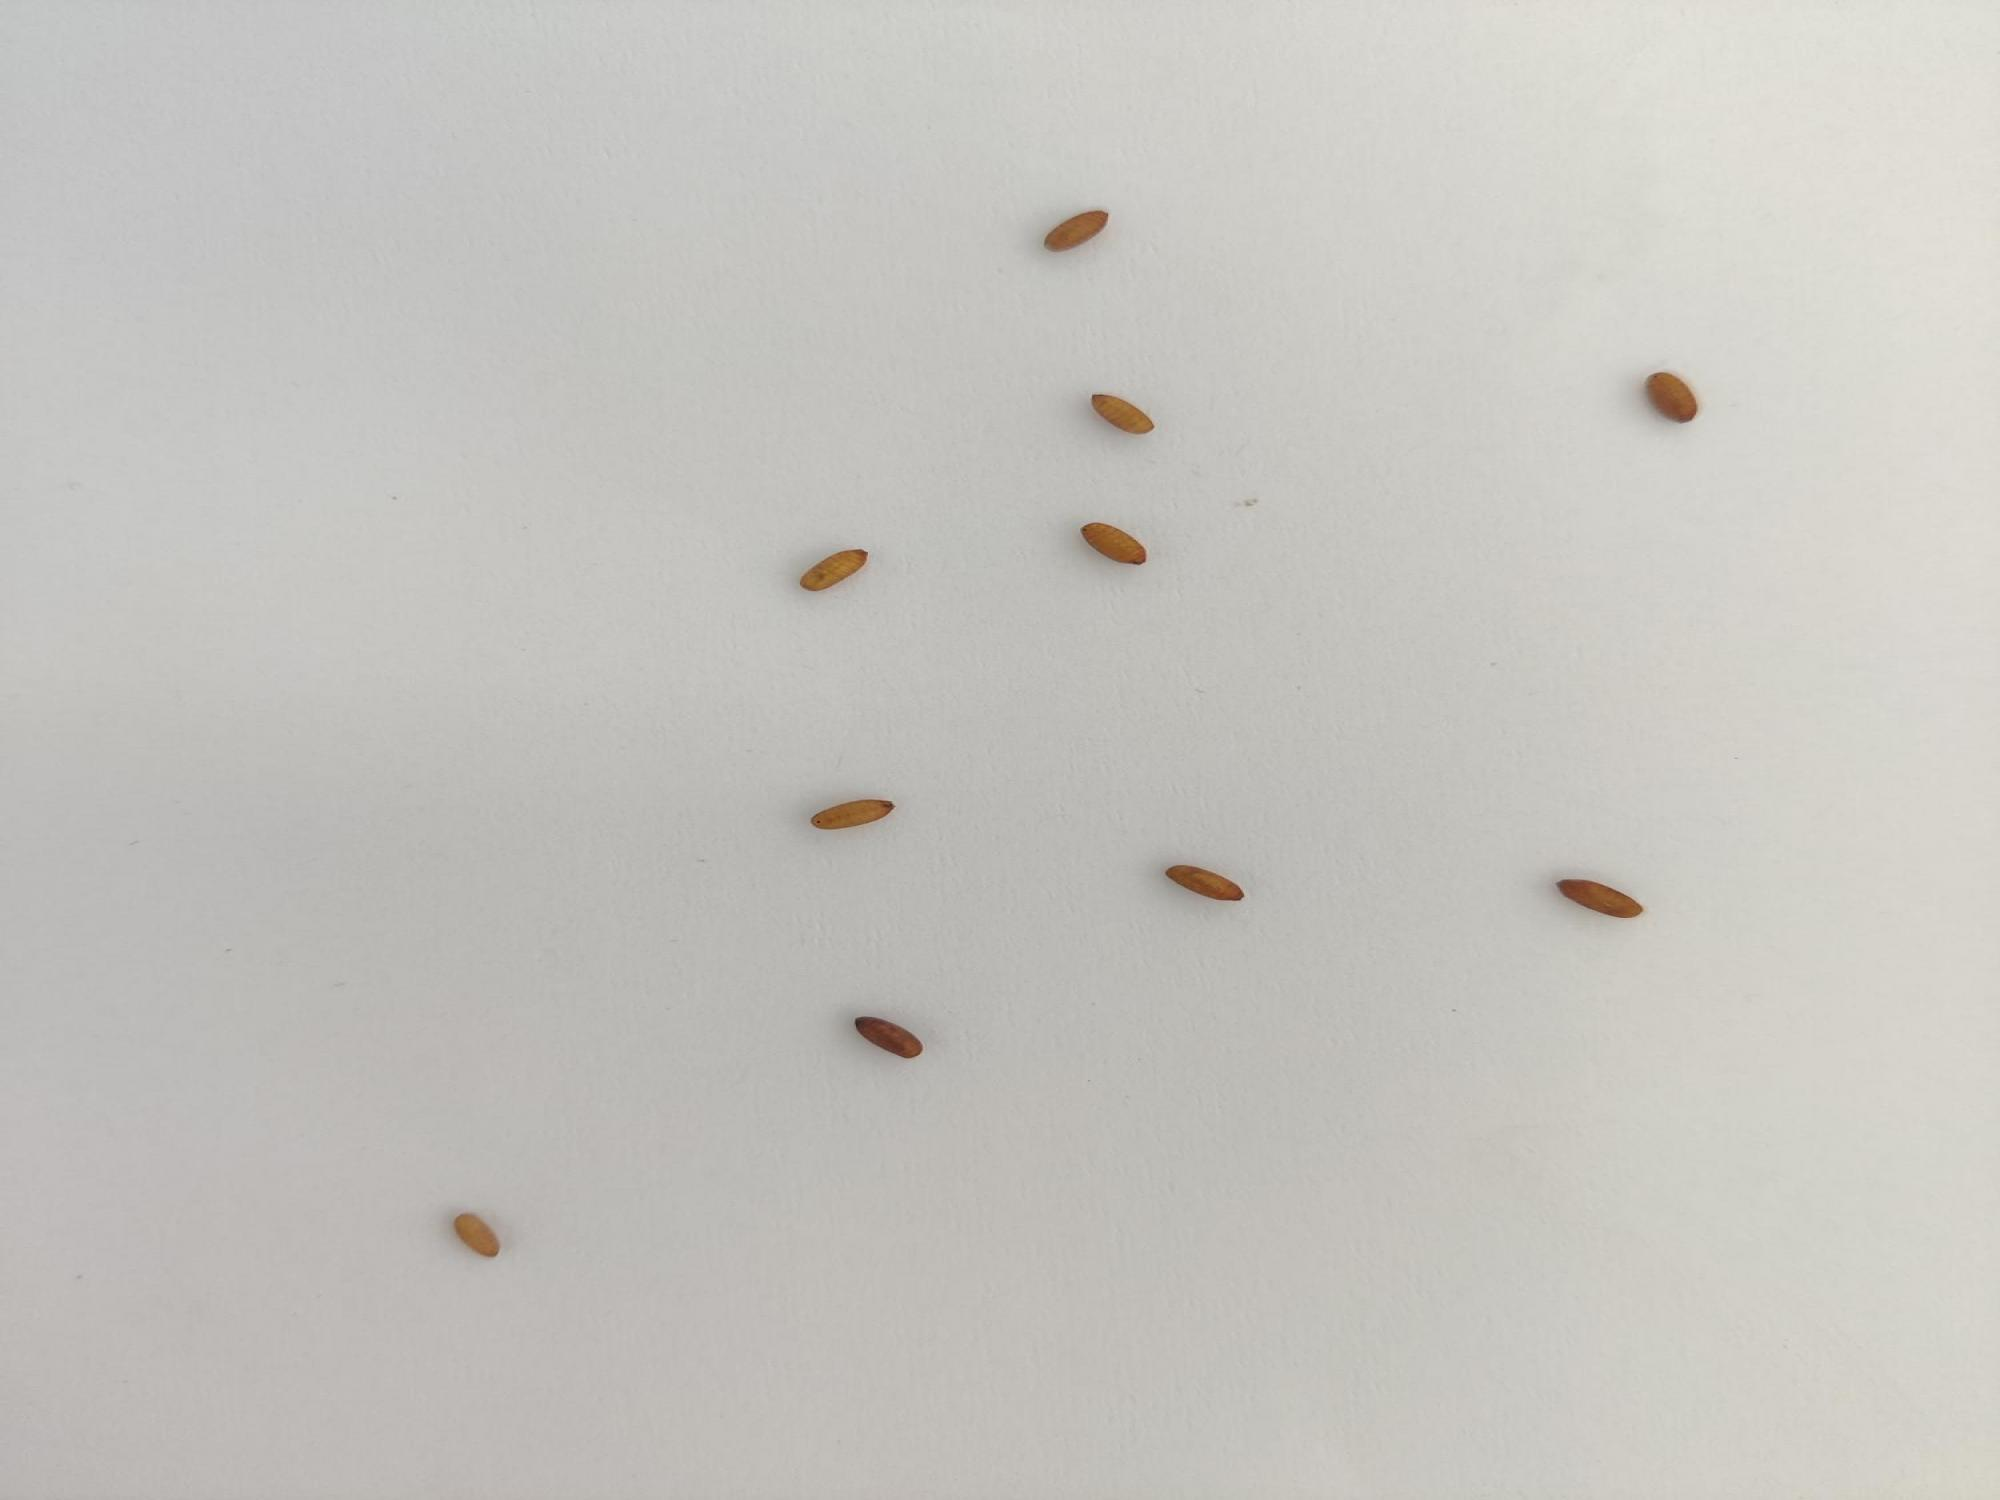pupae: (1068, 511, 1175, 581), (783, 785, 912, 843), (1540, 868, 1658, 928), (1628, 367, 1726, 438), (784, 537, 882, 605), (1153, 854, 1260, 914), (433, 1202, 521, 1273), (1077, 383, 1173, 443), (836, 1010, 939, 1060), (1028, 203, 1124, 257)
